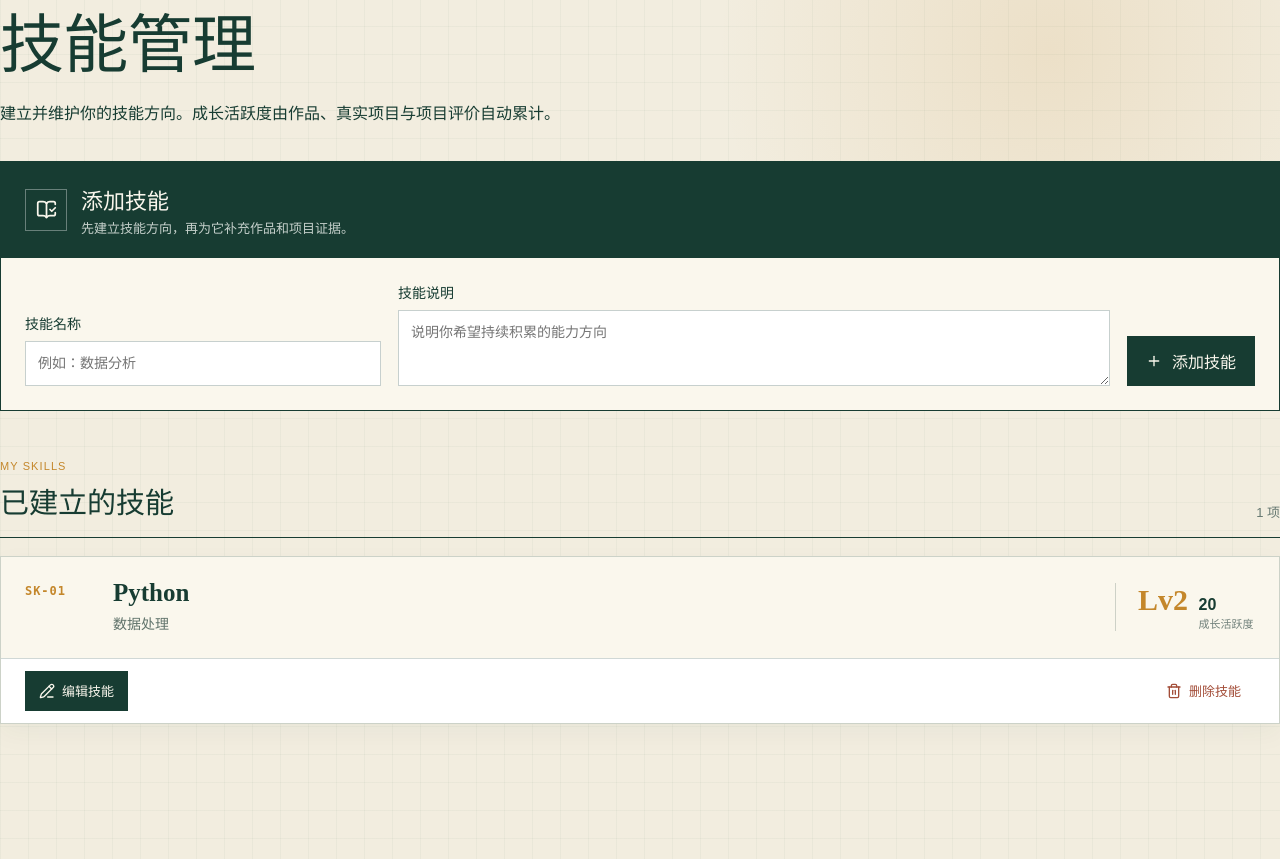
Scenario: edits an existing skill and removes an unlinked skill
The width and height of the screenshot is (1280, 859).
Click the button "编辑技能".
click(76, 691)  # box [25,671,128,711]
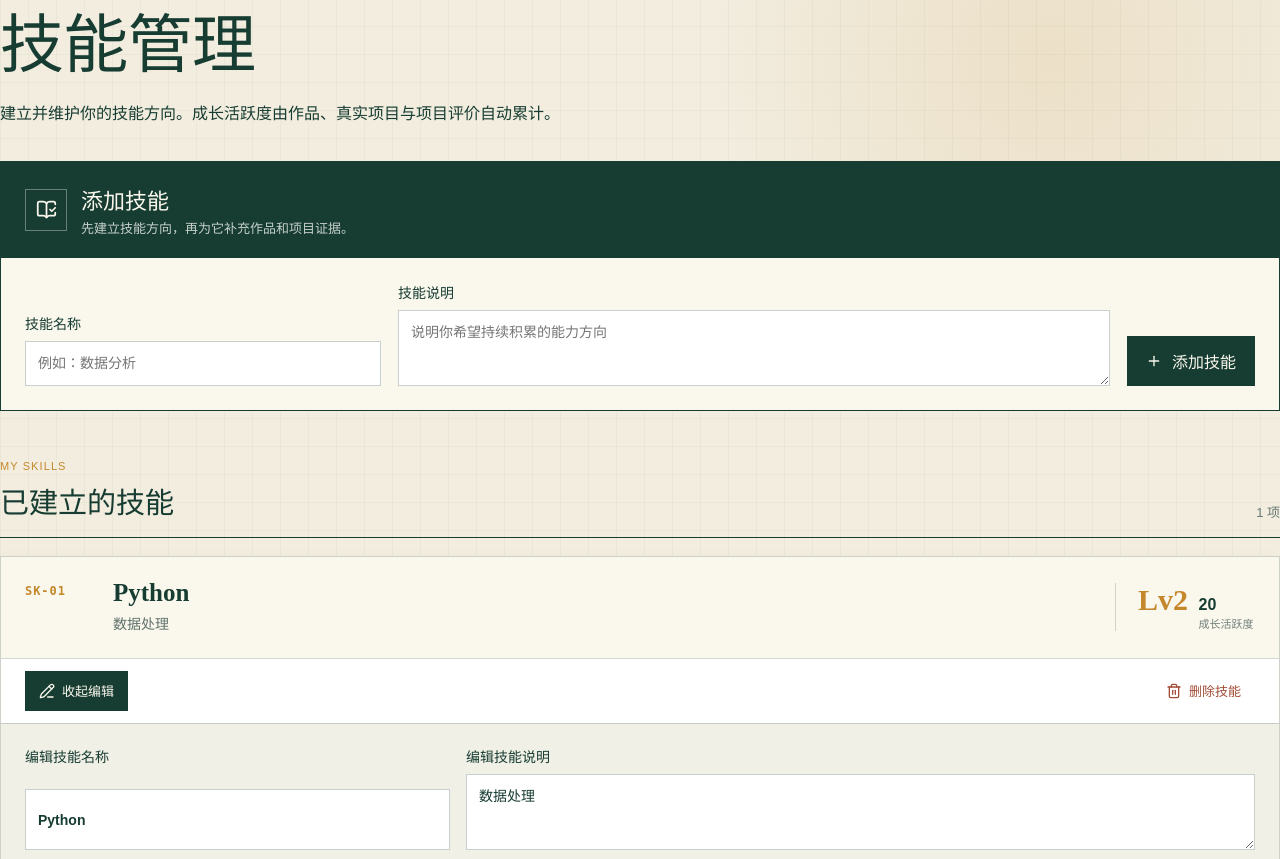
Replace the text in the field labelled "编辑技能名称" with "Python 自动化" at (237,820), box [25,789,450,850]
(page scrolled)
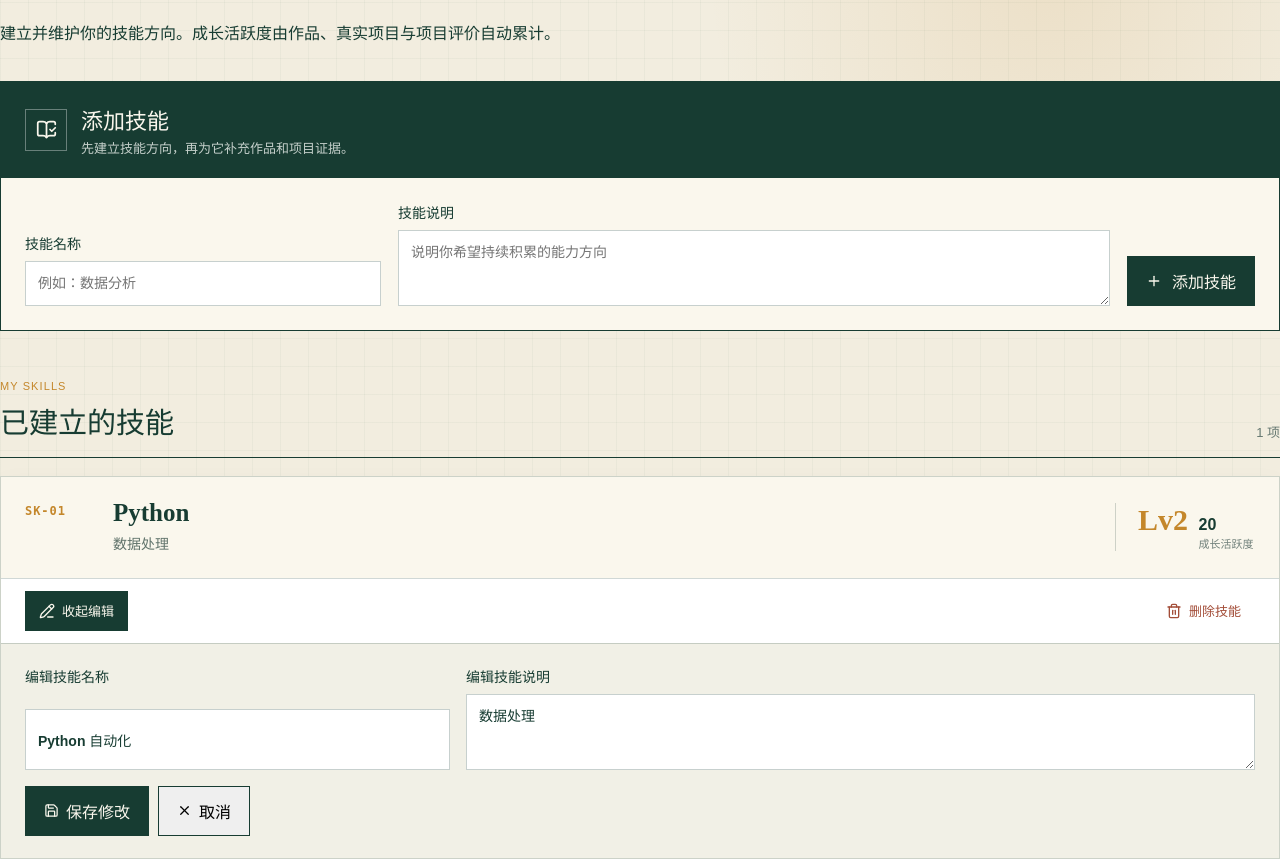
Click the button "保存修改".
click(87, 811)  # box [25,786,149,836]
(page scrolled)
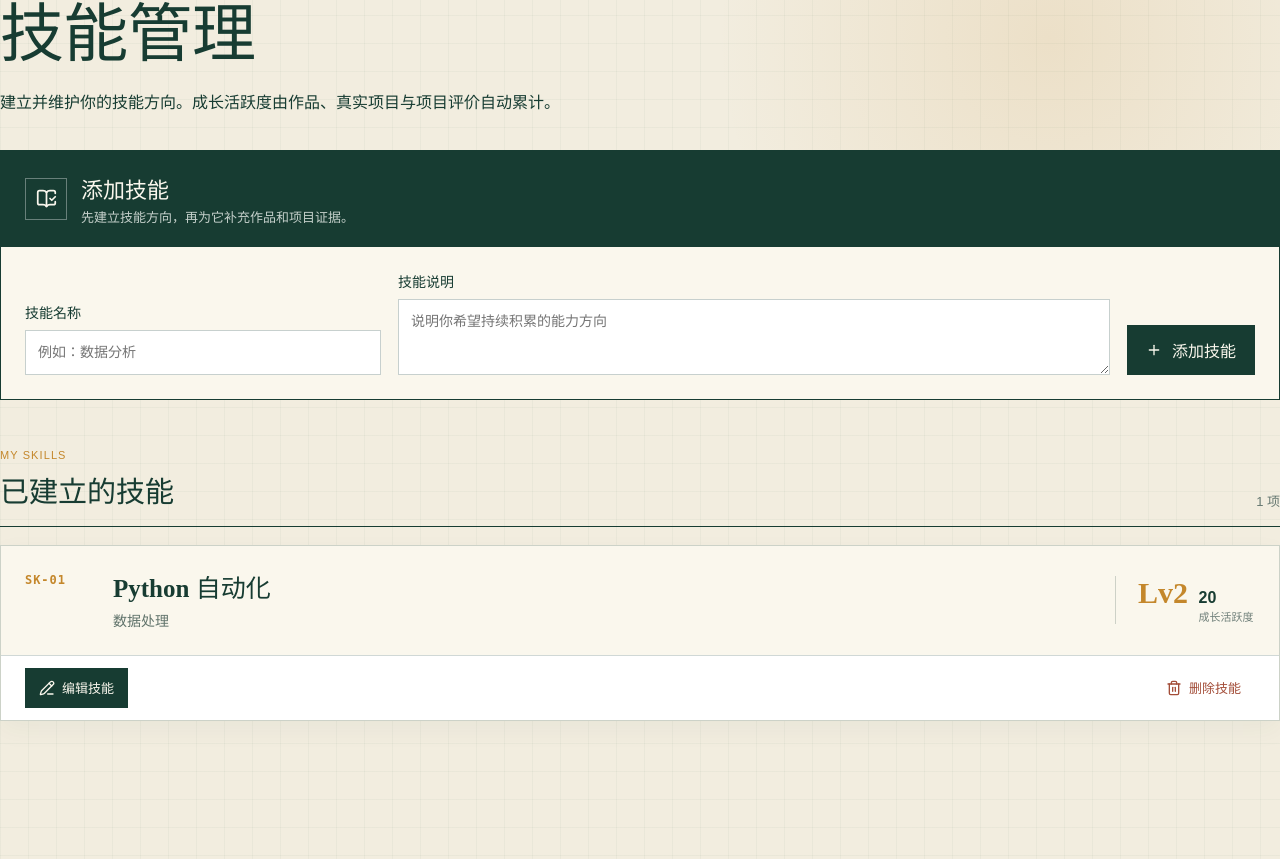
Now the heading "Python 自动化" is shown, box [113,575,271,602]
Click the button "删除技能".
click(1204, 688)  # box [1152,668,1255,708]
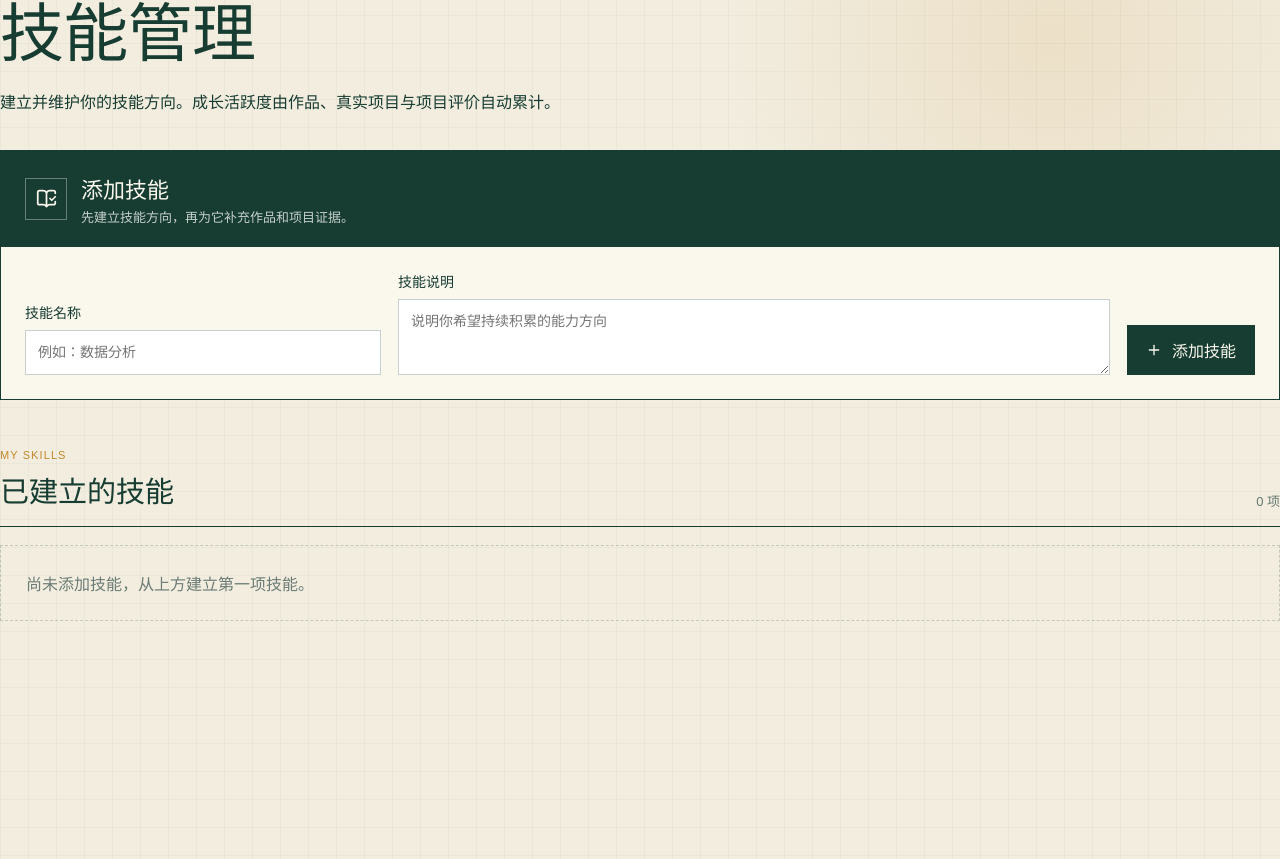
Now the heading "Python 自动化" is gone
